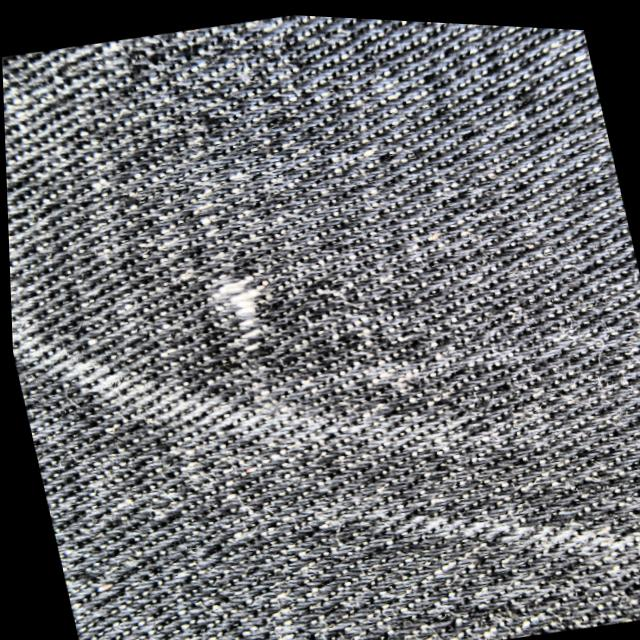Hole: (212, 269, 265, 345)
